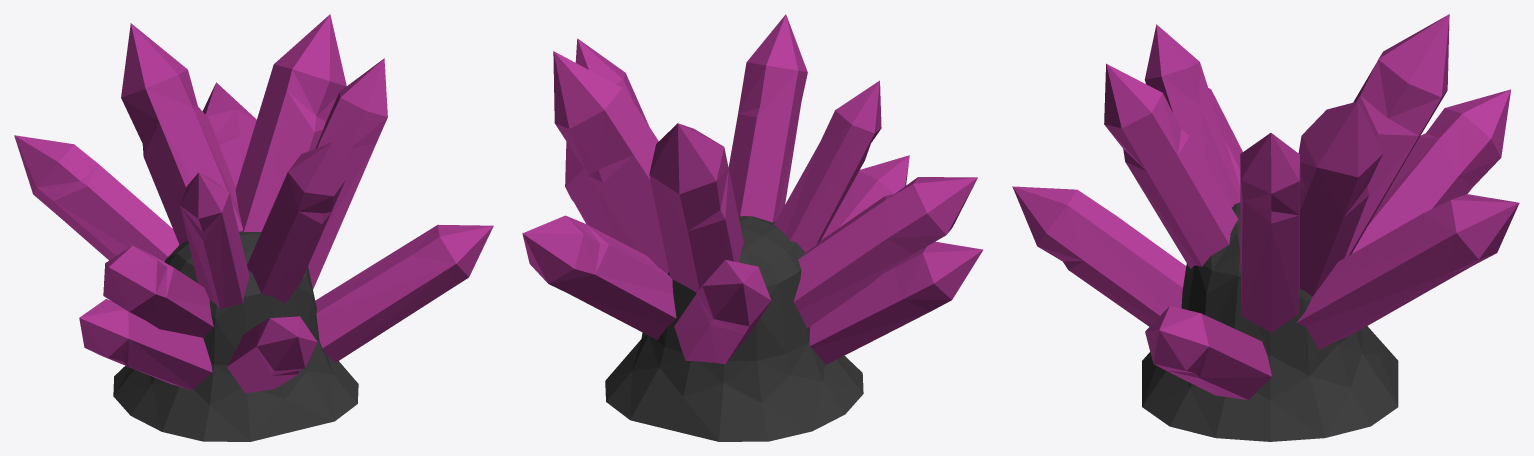
Rendered from nat_crystal_mineral_1.glb.
The picture shows the model from 3 angles, left to right: view 1: azimuth 30°, elevation 25°; view 2: azimuth 150°, elevation 25°; view 3: azimuth 270°, elevation 25°; orthographic projection. The views are drawn at different scales.
Parts seen in each view (by area): view 1: nat_crystal_mineral_1; view 2: nat_crystal_mineral_1; view 3: nat_crystal_mineral_1.
Boxes of the visible parts, x1=… form: nat_crystal_mineral_1: x1=14, y1=14, x2=493, y2=441; nat_crystal_mineral_1: x1=522, y1=14, x2=983, y2=441; nat_crystal_mineral_1: x1=1012, y1=14, x2=1519, y2=441.
Size of the model in its own units: 1.35 by 1 by 1.29.
